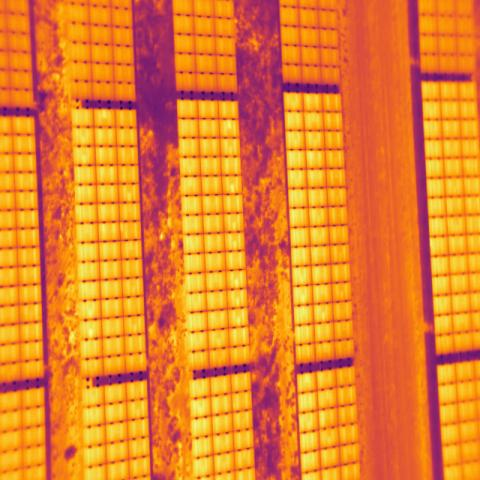fault: (80, 318, 103, 340)
